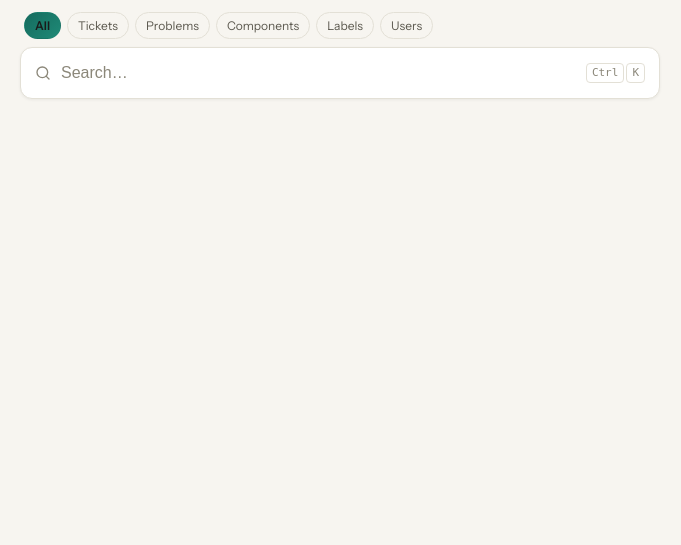
Test: GlobalSearchBar typeahead › (c) direct-match row pinned top, 'View all' pinned bottom
Type "Bug" into the search field at coordinates (318, 73), box [61,52,576,94]
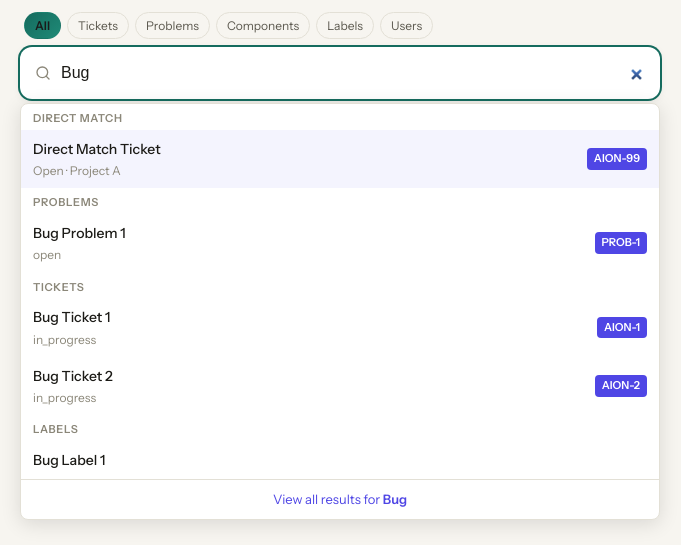
Check: the text "Direct Match Ticket" is shown, box [33,140,161,158]
Check: the text "View all results for Bug" is shown, box [273,489,407,510]
Check: the option "Direct Match Ticket Open · Project A AION-99" is shown, box [21,130,659,188]
